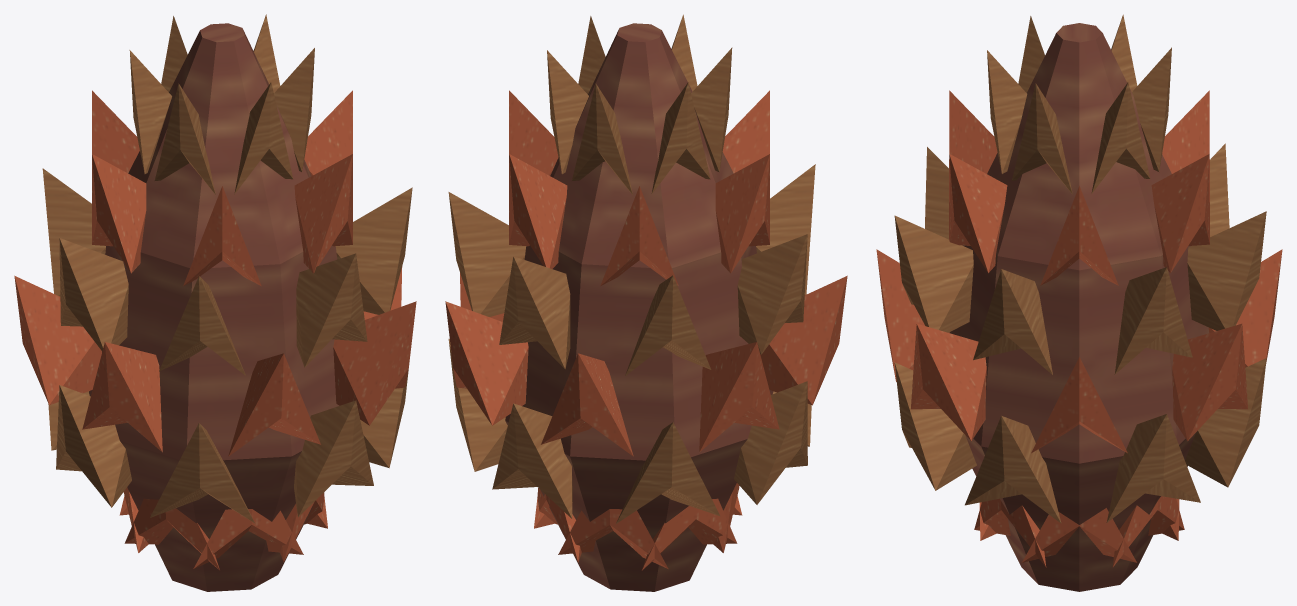
File: pinecone_single.glb
The picture shows the model from 3 angles, left to right: view 1: azimuth 30°, elevation 25°; view 2: azimuth 150°, elevation 25°; view 3: azimuth 270°, elevation 25°; orthographic projection.
Visible parts, largest first — view 1: pinecone_single; view 2: pinecone_single; view 3: pinecone_single.
Part boxes in pixels (x1,y1,x2,y2): pinecone_single: [14, 14, 416, 591]; pinecone_single: [445, 14, 847, 591]; pinecone_single: [876, 14, 1282, 591].
Size of the model in its own units: 0.069 by 0.102 by 0.0702.
Materials: 3 (3 with a texture image).
